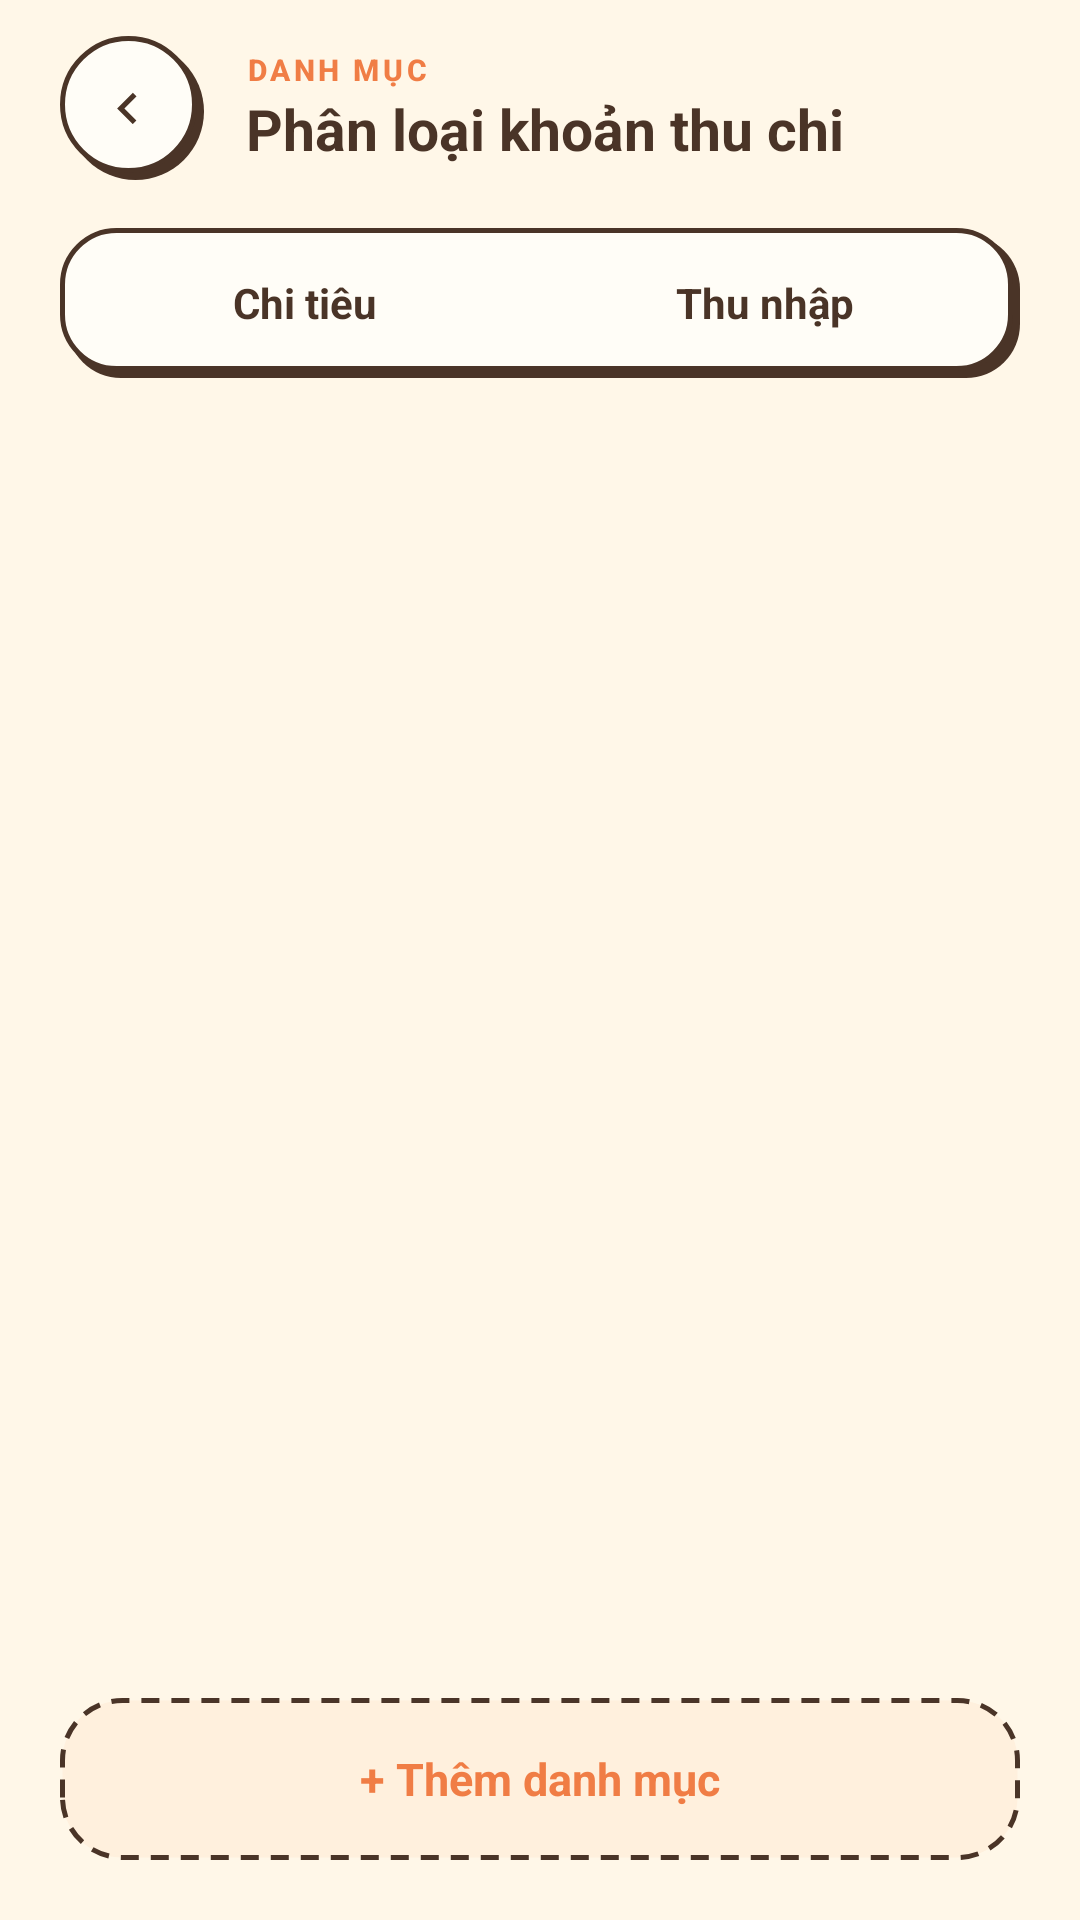

Where icons sit on this 1080w x 1920h app screen, as Rect(x1, y1, x2, y2):
Quay lại: Rect(60, 36, 204, 180)
